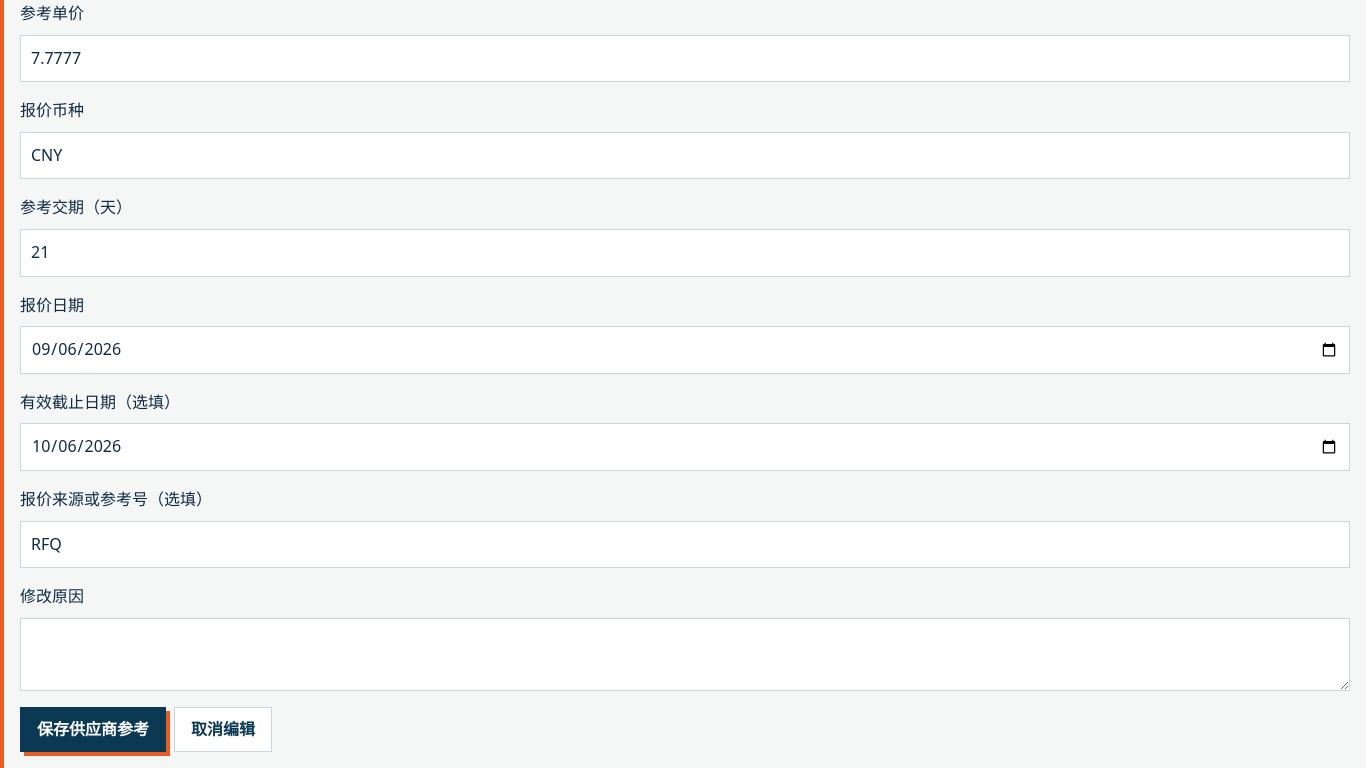
Test: rejects reversed dates, negative prices and fractional lead times
(page scrolled)
Type "核对" into the text box labelled "修改原因".
click(685, 654); type("核对")  # box [20,618,1350,691]
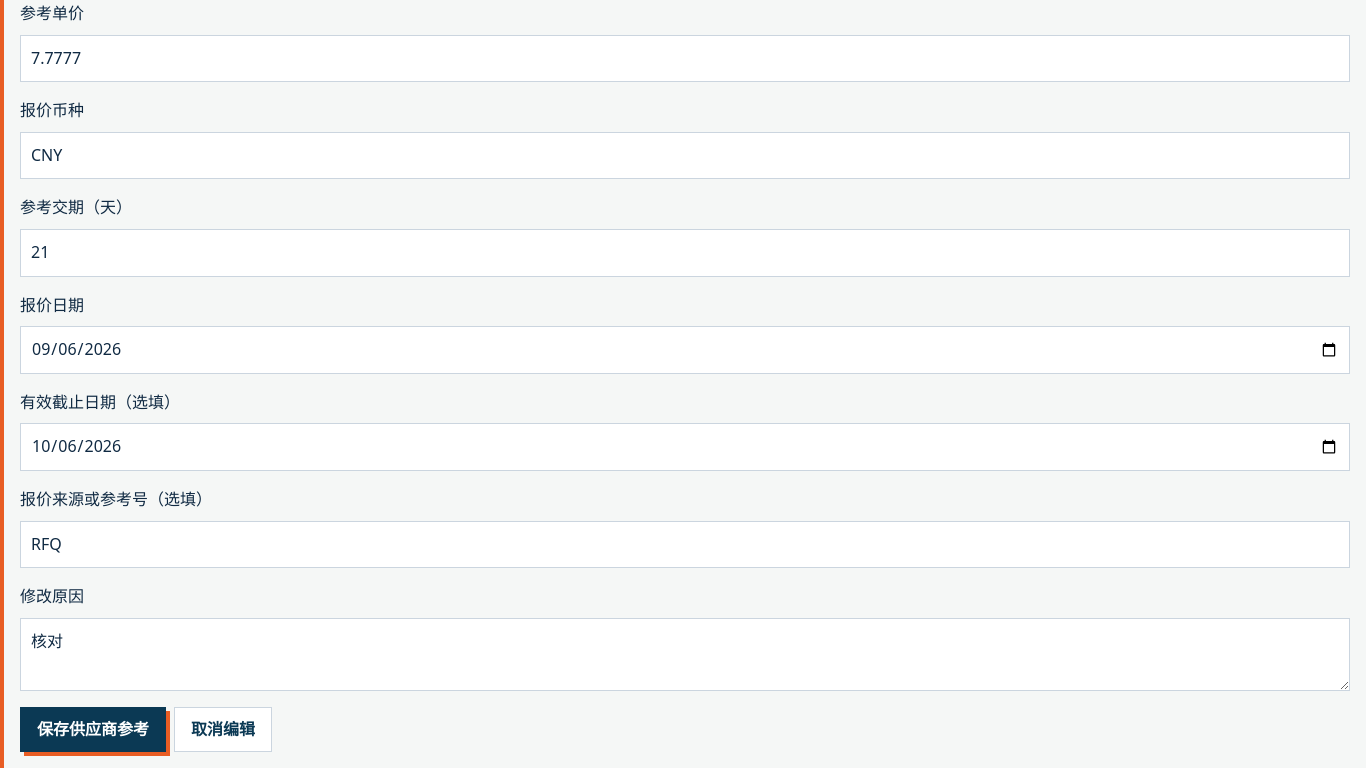
Replace the text in the field labelled "参考单价" with "-1" at (685, 58), box [20,35,1350,82]
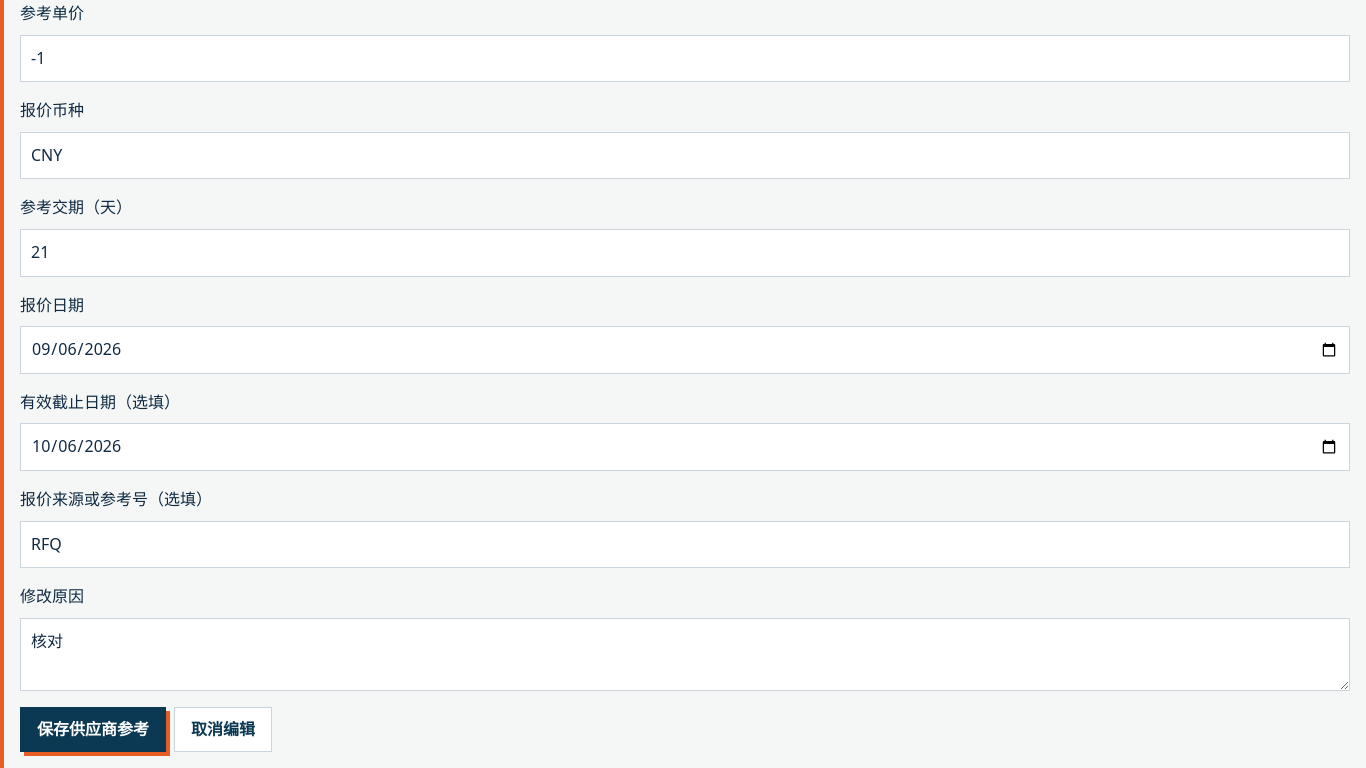
Replace the text in the field labelled "参考交期（天）" with "1.5" at (685, 253), box [20,229,1350,276]
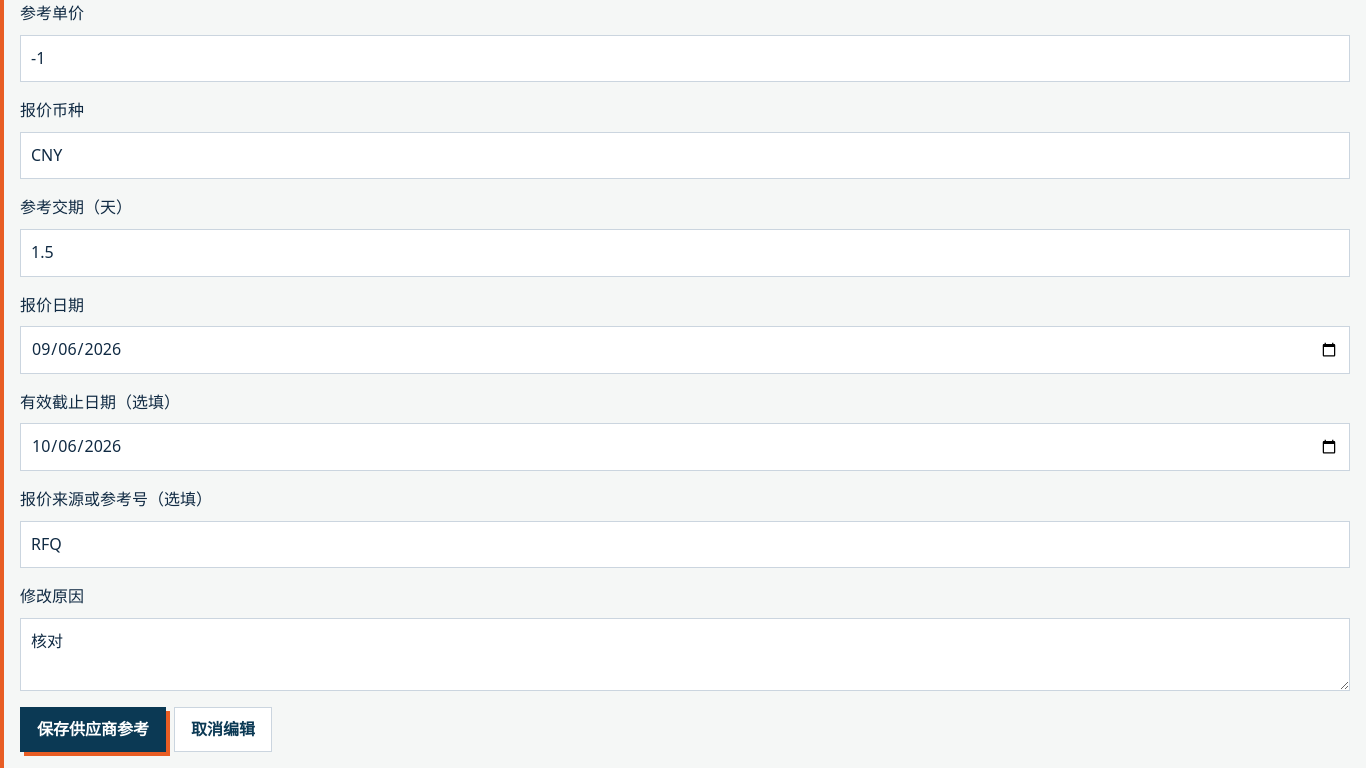
Type "2026-09-01" into the date field labelled "有效截止日期（选填）".
click(685, 447); type("2026-09-01")  # box [20,423,1350,471]
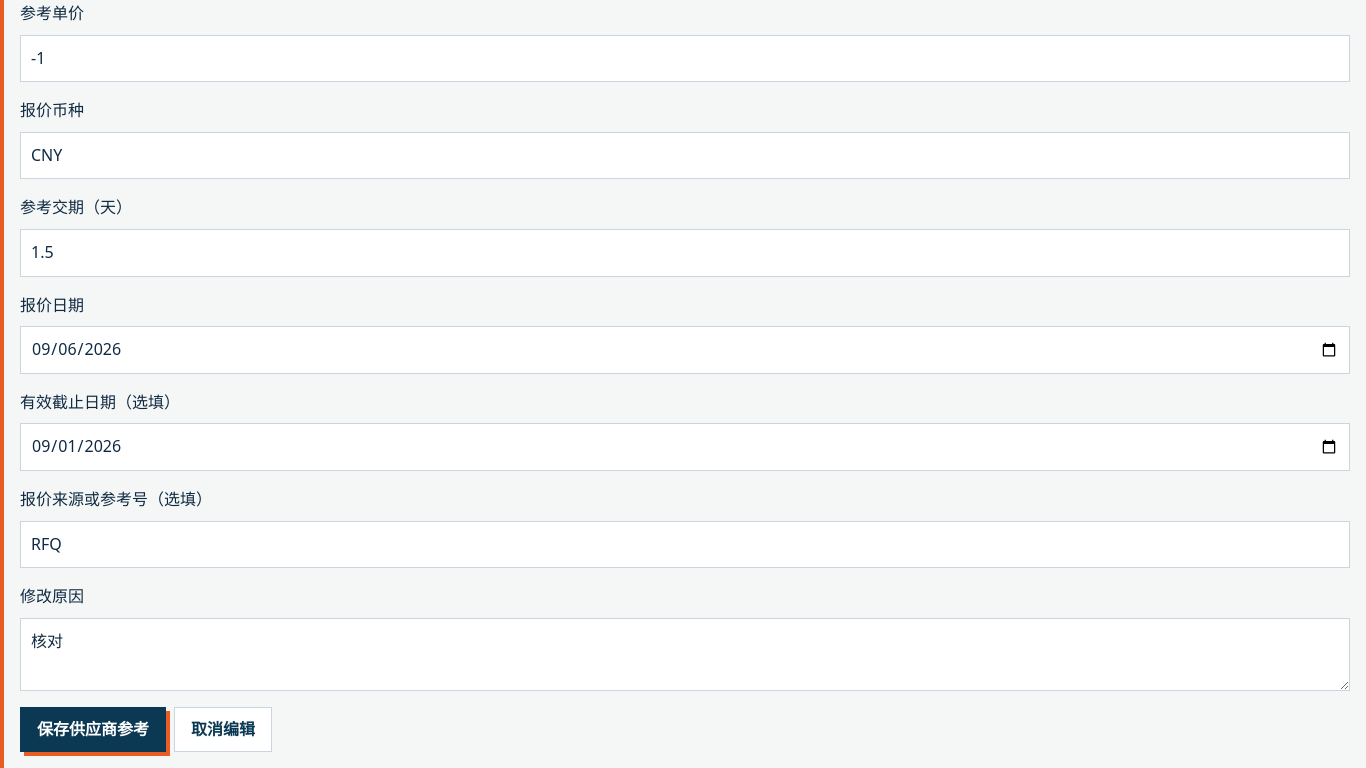
Click the button "保存供应商参考".
click(93, 730)  # box [20,707,166,752]
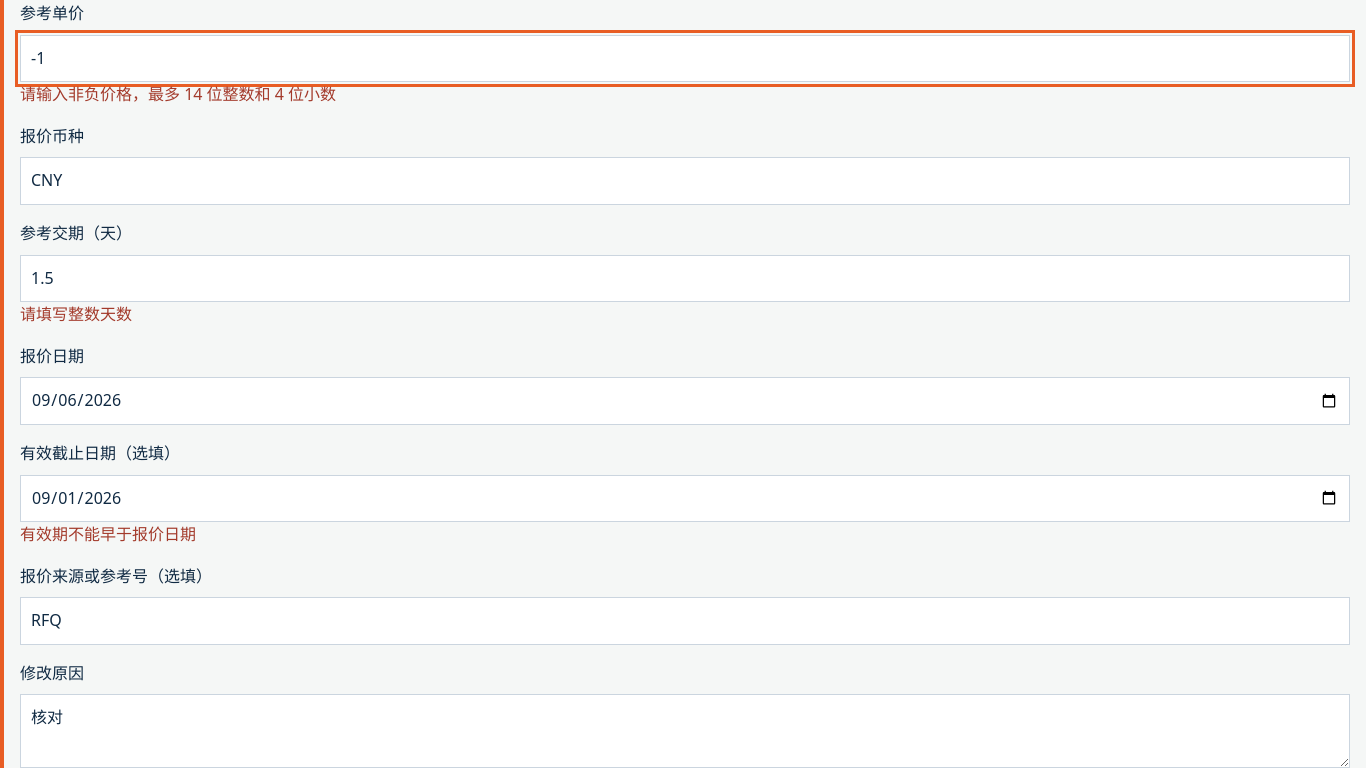
Now the text "请输入非负价格，最多 14 位整数和 4 位小数" is shown, box [20,83,336,105]
Now the text "请填写整数天数" is shown, box [20,303,132,325]
Now the text "有效期不能早于报价日期" is shown, box [20,523,196,545]
